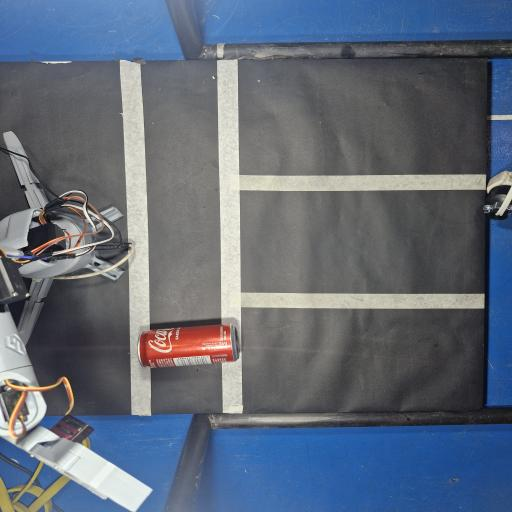lata: (138, 324, 238, 368)
